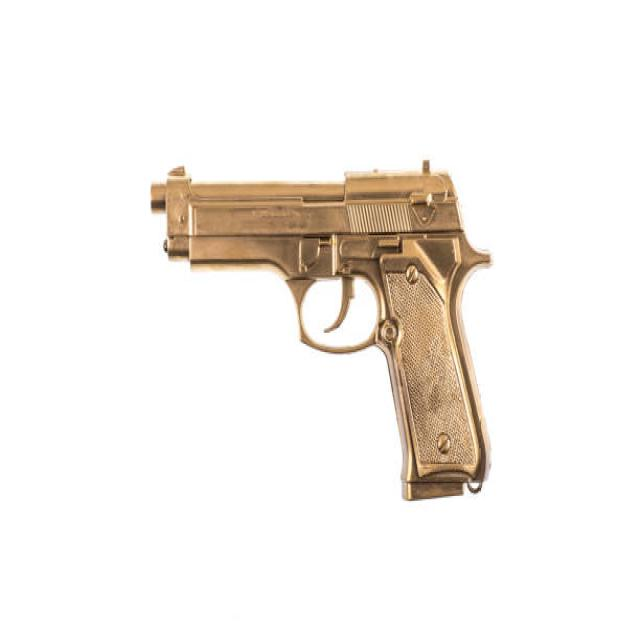pistol: (141, 150, 501, 502)
